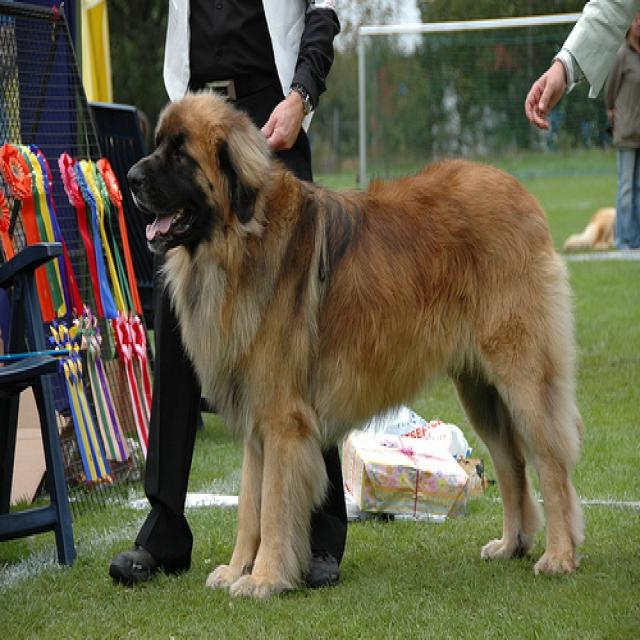dog-leonberger: (118, 71, 589, 607)
